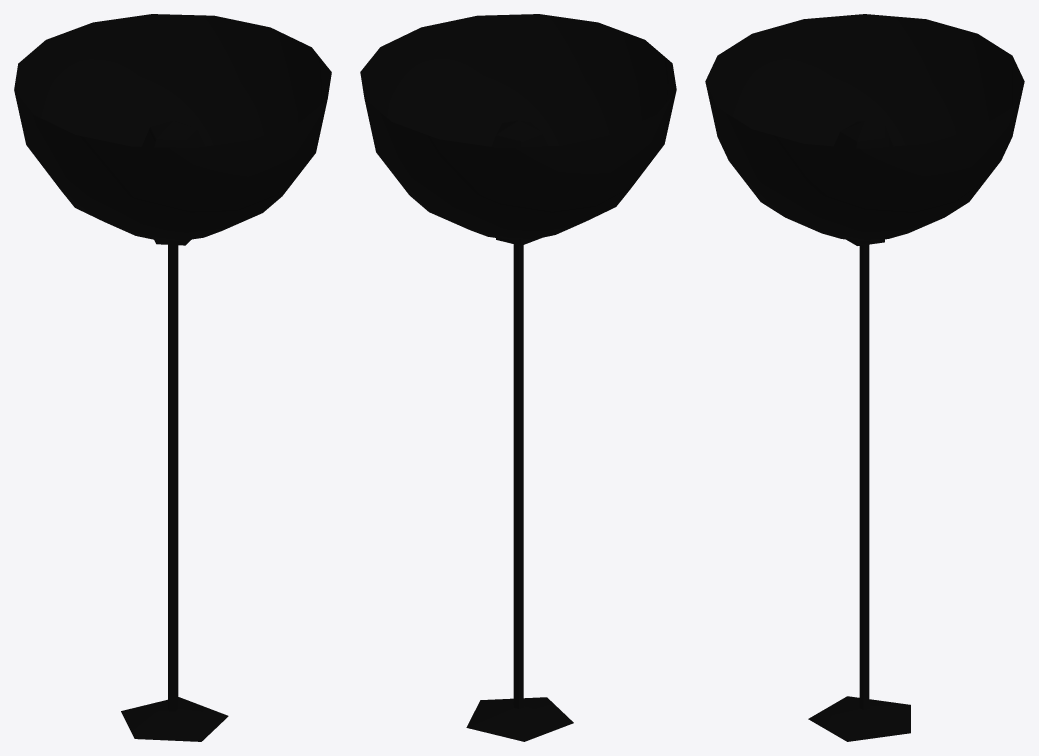
File: FloorLampC_Off.glb
The picture shows the model from 3 angles, left to right: view 1: azimuth 30°, elevation 25°; view 2: azimuth 150°, elevation 25°; view 3: azimuth 270°, elevation 25°; orthographic projection.
Parts seen in each view (by area): view 1: floorLampC_Off; view 2: floorLampC_Off; view 3: floorLampC_Off.
Boxes of the visible parts, x1,y1,x2,y2 form: floorLampC_Off: (14,14,331,741); floorLampC_Off: (360,14,676,741); floorLampC_Off: (705,14,1024,741).
Size of what is drawn, in the model's own units: 0.623 by 1.37 by 0.623.
Materials: 1 (1 with a texture image).
